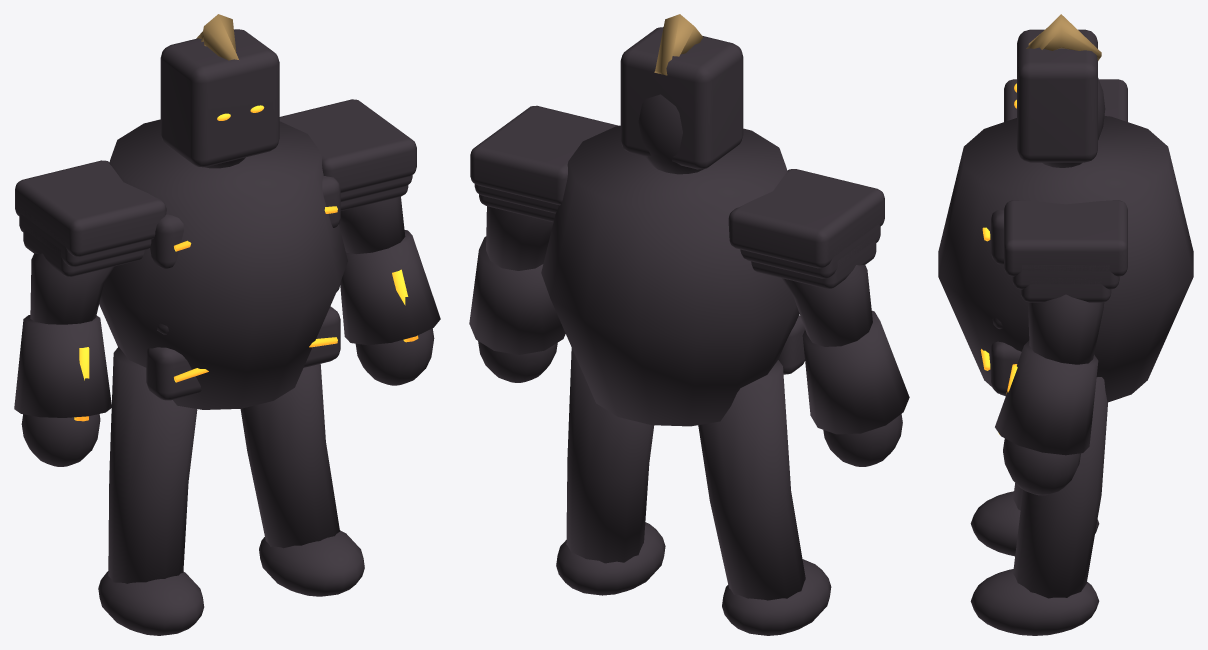
Rendered from cinder-sentinel.glb.
The picture shows the model from 3 angles, left to right: view 1: azimuth 30°, elevation 25°; view 2: azimuth 150°, elevation 25°; view 3: azimuth 270°, elevation 25°; orthographic projection. The views are drawn at different scales.
Visible parts, largest first — view 1: Armored leg, Upper arm, Upper arm.001; view 2: Armored leg, Upper arm, Upper arm.001; view 3: Armored leg, Upper arm.001, Upper arm.
Part boxes in pixels (bbox=[...]): Armored leg: bbox=[98, 14, 364, 635]; Upper arm: bbox=[14, 160, 166, 466]; Upper arm.001: bbox=[279, 99, 440, 385]; Armored leg: bbox=[541, 14, 831, 635]; Upper arm: bbox=[728, 169, 909, 466]; Upper arm.001: bbox=[469, 105, 618, 382]; Armored leg: bbox=[938, 14, 1193, 635]; Upper arm.001: bbox=[995, 200, 1127, 495]; Upper arm: bbox=[1004, 79, 1127, 121].
Size of the model in its own units: 1.98 by 2.67 by 1.07.
